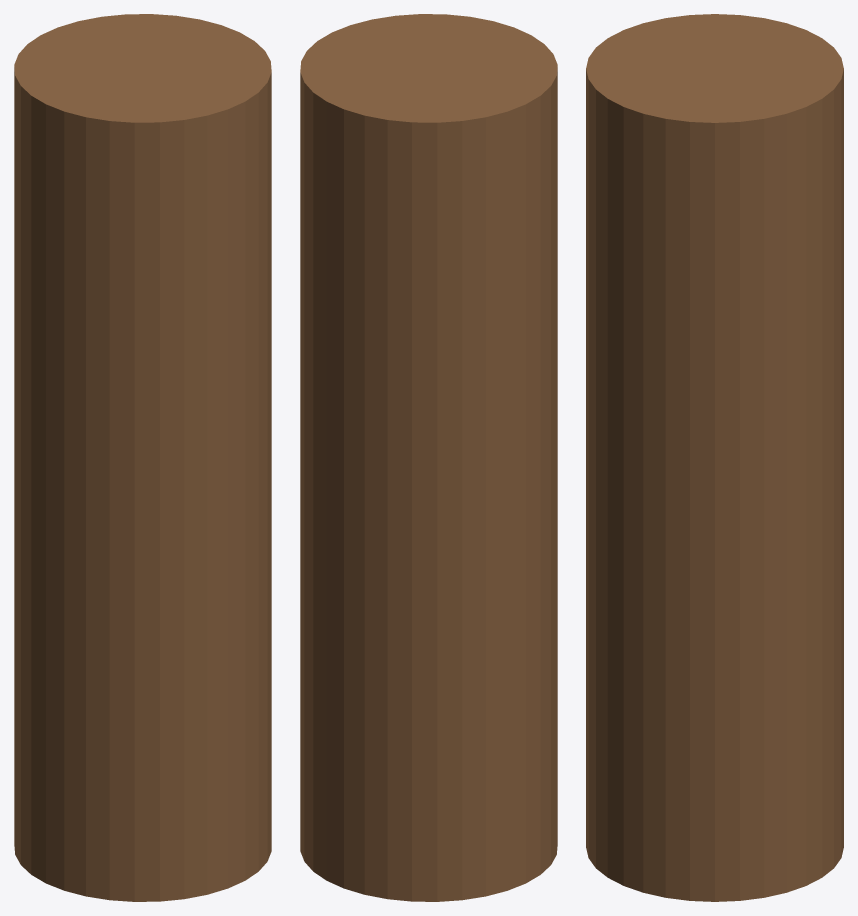
The model's file is Chain_Boom_Link_03.fbx.
3 renders of one model, left to right at view 1: azimuth 30°, elevation 25°; view 2: azimuth 150°, elevation 25°; view 3: azimuth 270°, elevation 25°, orthographic.
Parts seen in each view (by area): view 1: Chain_Boom_Link_03; view 2: Chain_Boom_Link_03; view 3: Chain_Boom_Link_03.
Boxes of the visible parts, bbox=[...] form: Chain_Boom_Link_03: bbox=[14, 14, 271, 901]; Chain_Boom_Link_03: bbox=[300, 14, 557, 901]; Chain_Boom_Link_03: bbox=[586, 14, 843, 901].
Size of the model in its own units: 0.6 by 2 by 0.6.
